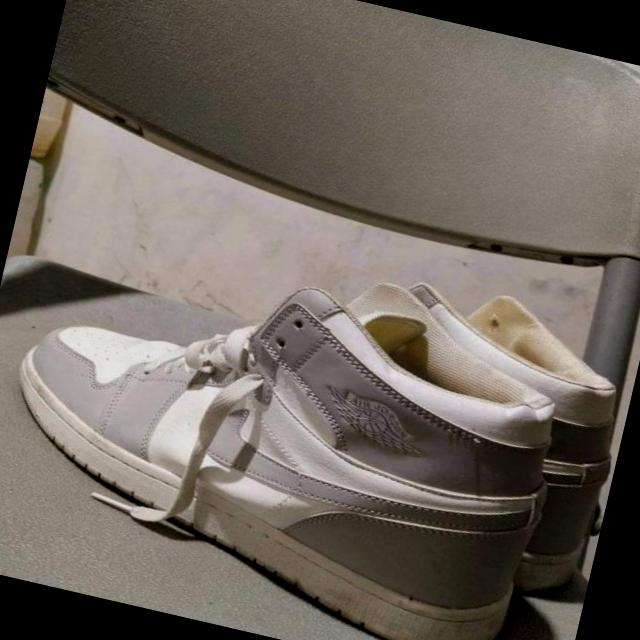nike_fake_jordan: (0, 203, 581, 640)
